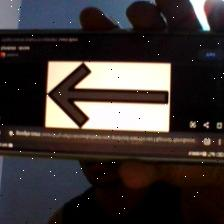left: (50, 64, 168, 128)
